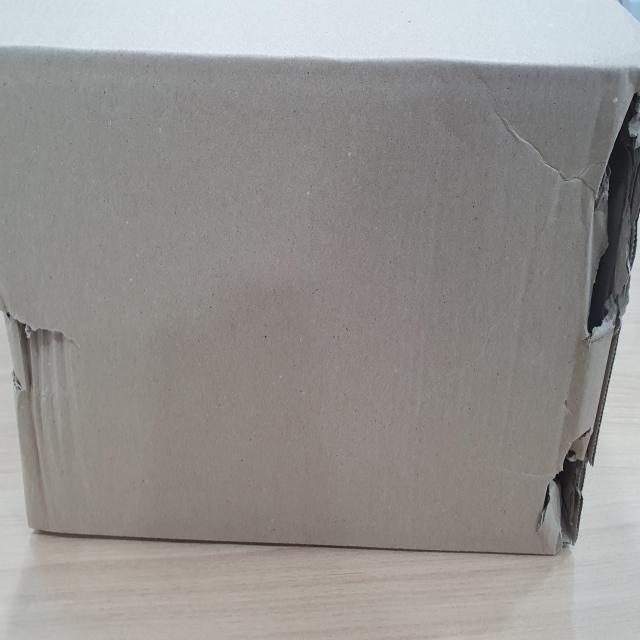damaged: (585, 76, 640, 332), (534, 429, 600, 551)
